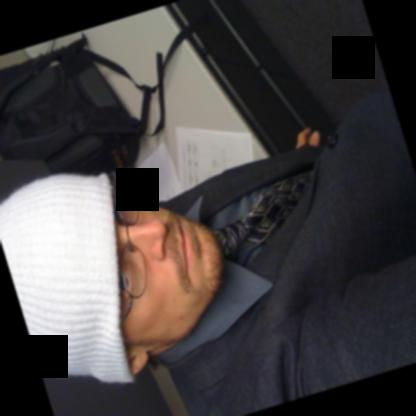backpack: (0, 33, 154, 176)
